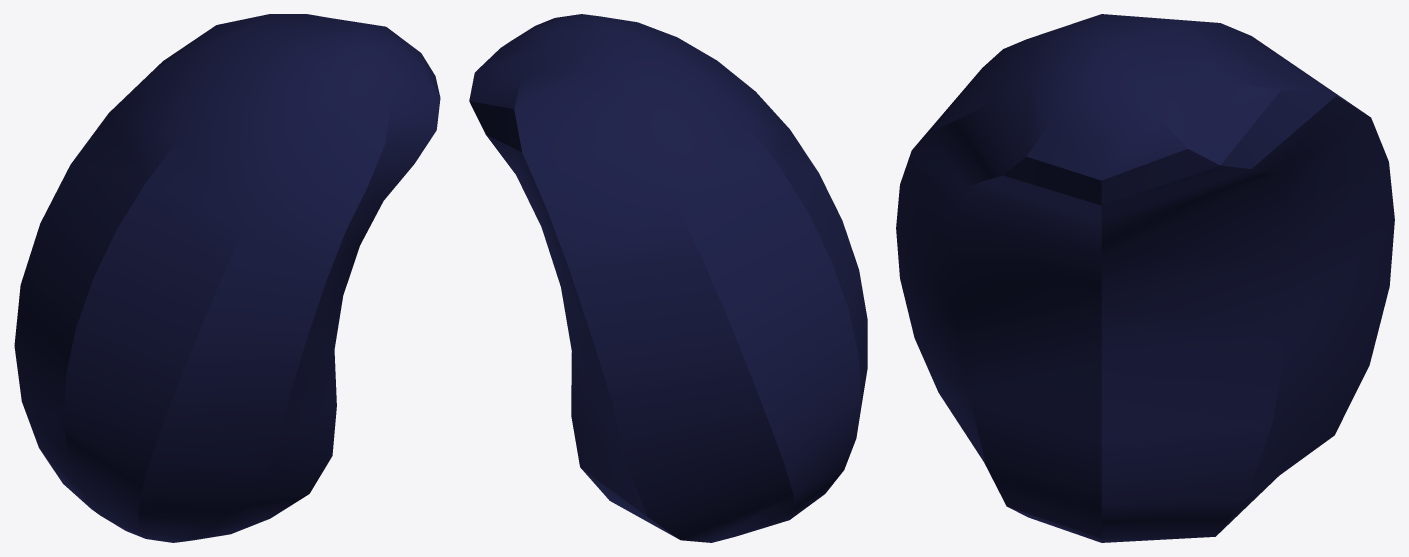
The model's file is Arm_R.obj.
3 views of the same model, side by side, from view 1: azimuth 30°, elevation 25°; view 2: azimuth 150°, elevation 25°; view 3: azimuth 270°, elevation 25° (orthographic). The views are drawn at different scales.
Visible parts, largest first — view 1: P_Arm_R; view 2: P_Arm_R; view 3: P_Arm_R.
Boxes of the visible parts, x1,y1,x2,y2 form: P_Arm_R: (14, 14, 440, 542); P_Arm_R: (469, 14, 867, 542); P_Arm_R: (896, 14, 1394, 542).
Size of the model in its own units: 0.4501 by 0.5362 by 0.4305.
Materials: 1 (1 with a texture image).
